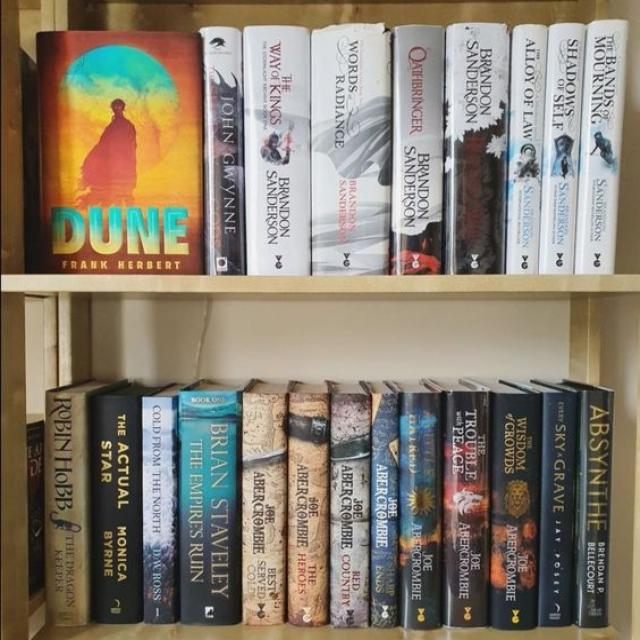book: (311, 28, 391, 273), (244, 26, 310, 275), (448, 25, 508, 273), (178, 391, 240, 625), (575, 22, 628, 275), (489, 394, 540, 630), (394, 27, 442, 275), (539, 25, 586, 275), (91, 396, 142, 624), (504, 25, 548, 274), (45, 393, 90, 625), (242, 392, 286, 626), (445, 392, 488, 629), (203, 27, 244, 274), (400, 393, 442, 627), (575, 391, 616, 628), (289, 390, 329, 628), (330, 393, 369, 628), (539, 391, 577, 625), (142, 398, 174, 623), (372, 394, 397, 627)
